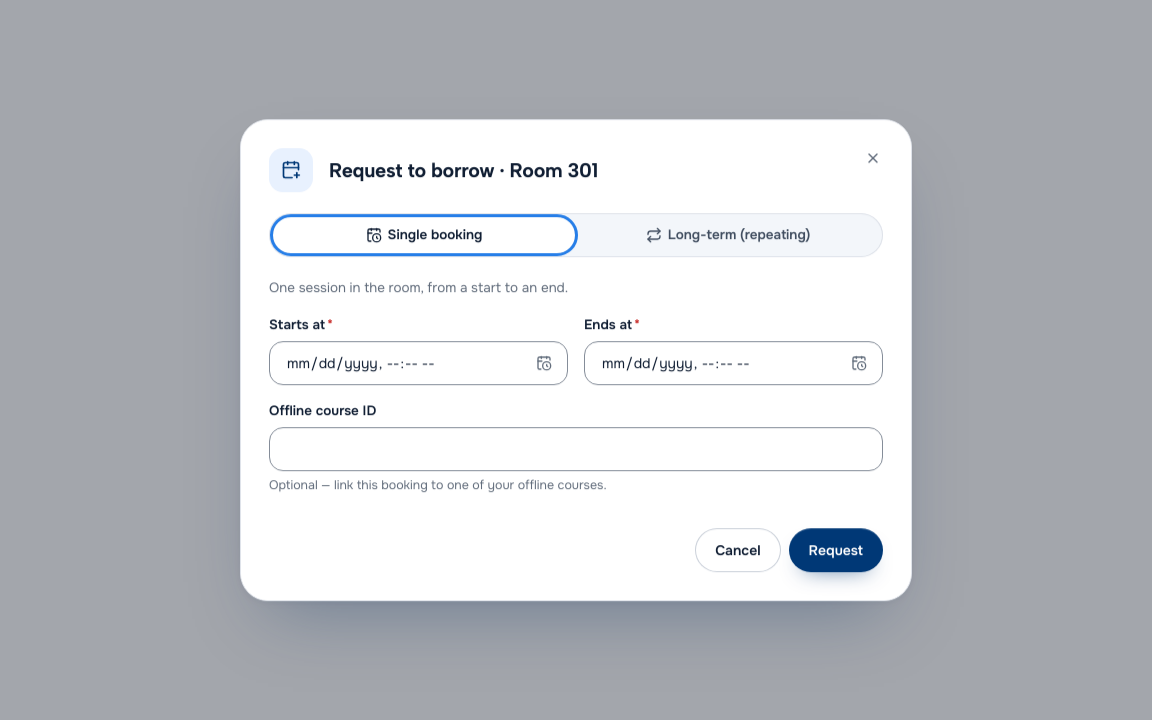
Test case: BookingRequestDialog — long-term booking › keeps a 409 conflict's dates on screen and stays open
Click the tab "Long-term (repeating)": (728, 235) [577,217,879,253]
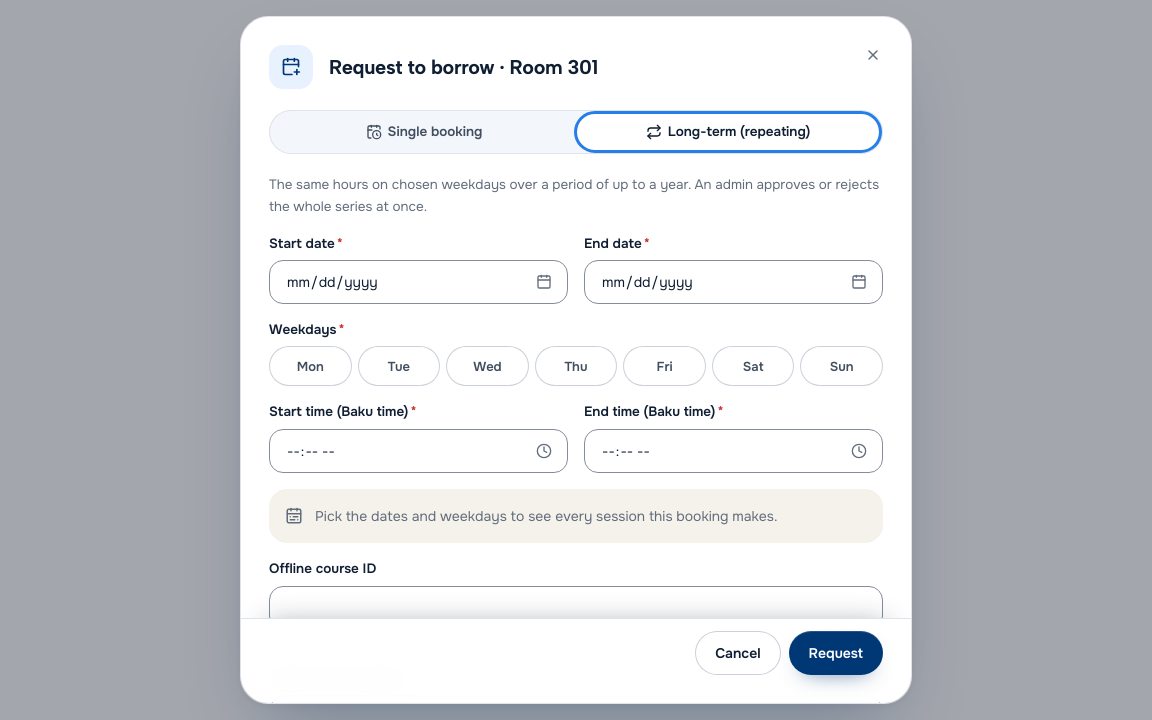
In the date field labelled "Start date*": (418, 282) [269,260,568,304], type "2099-11-02"
In the date field labelled "End date*": (734, 282) [584,260,883,304], type "2099-12-31"
Click the button with aria-label "Monday": (310, 366) [269,346,352,386]
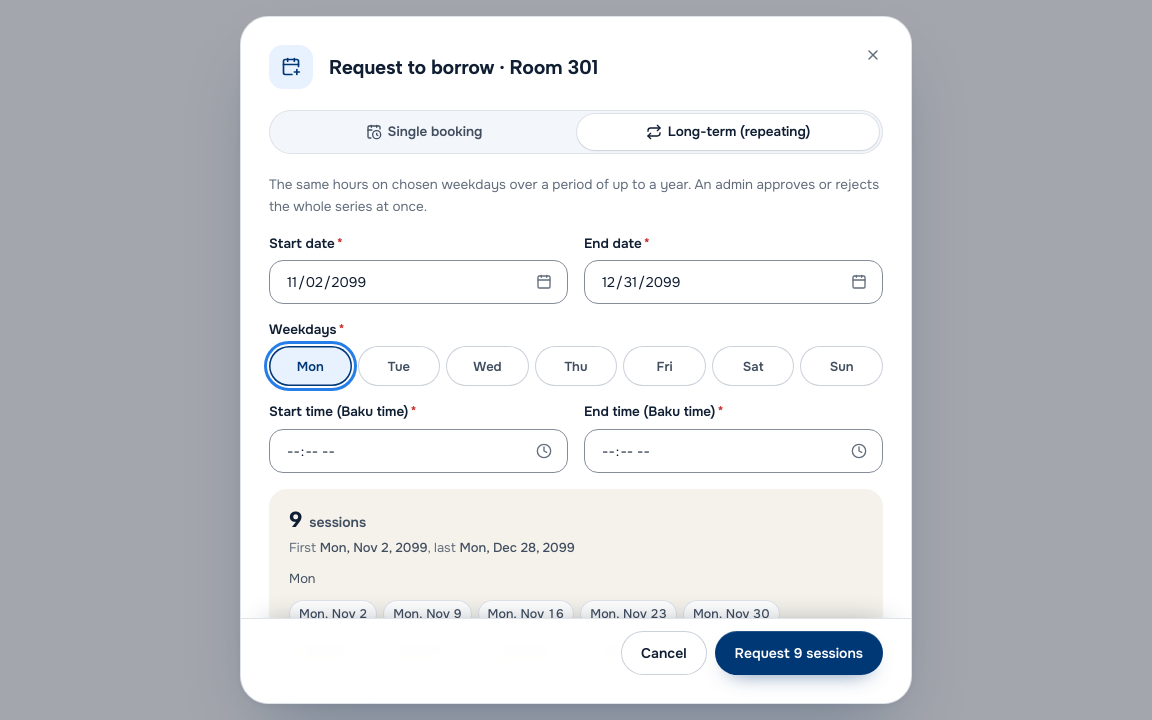
Click the button with aria-label "Wednesday": (487, 366) [446,346,529,386]
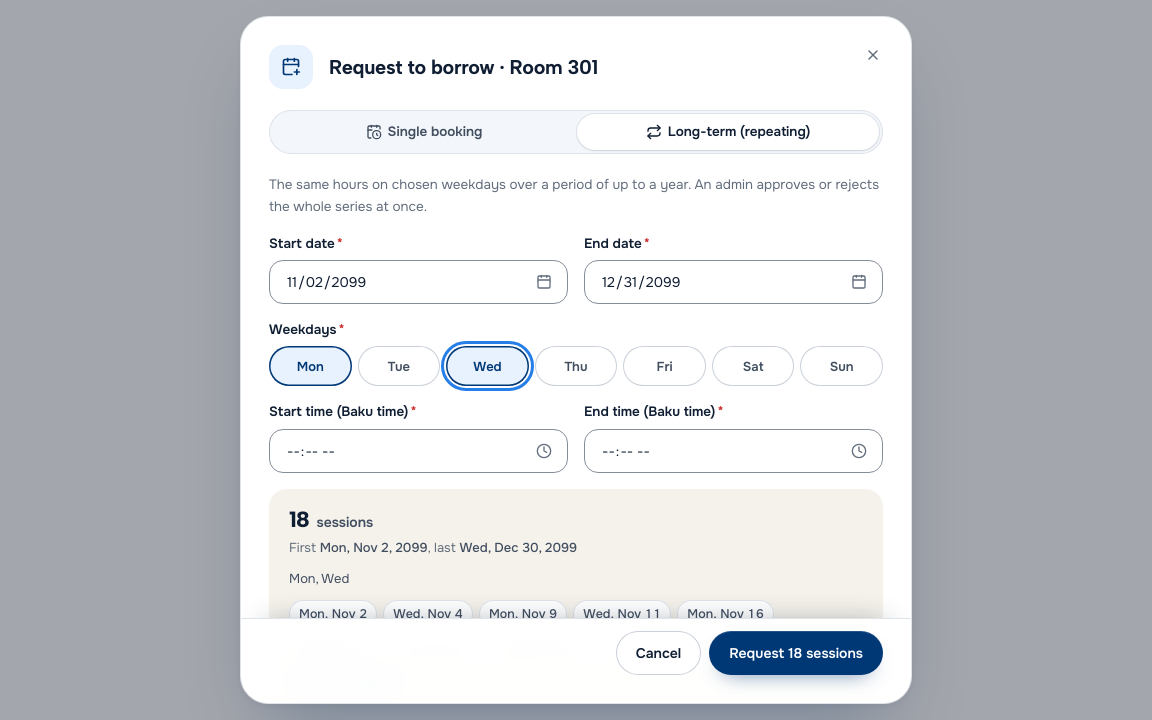
In the time field labelled "Start time (Baku time)*": (418, 451) [269,429,568,473], type "10:00"
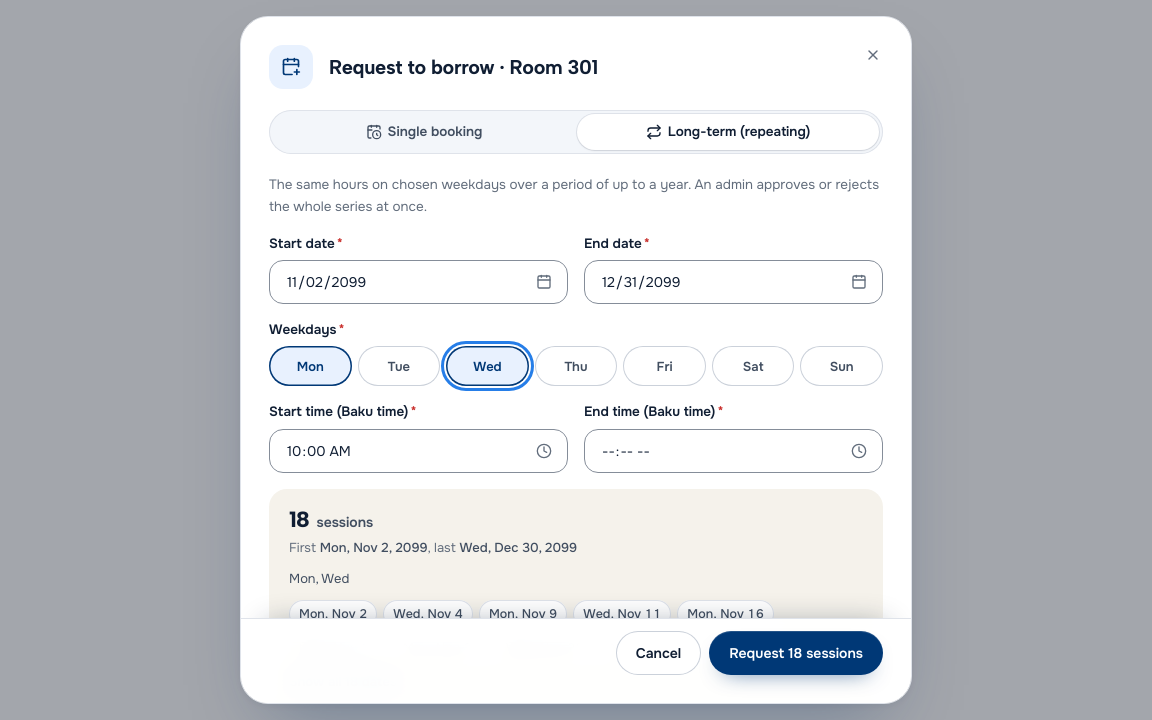
In the time field labelled "End time (Baku time)*": (734, 451) [584,429,883,473], type "12:00"
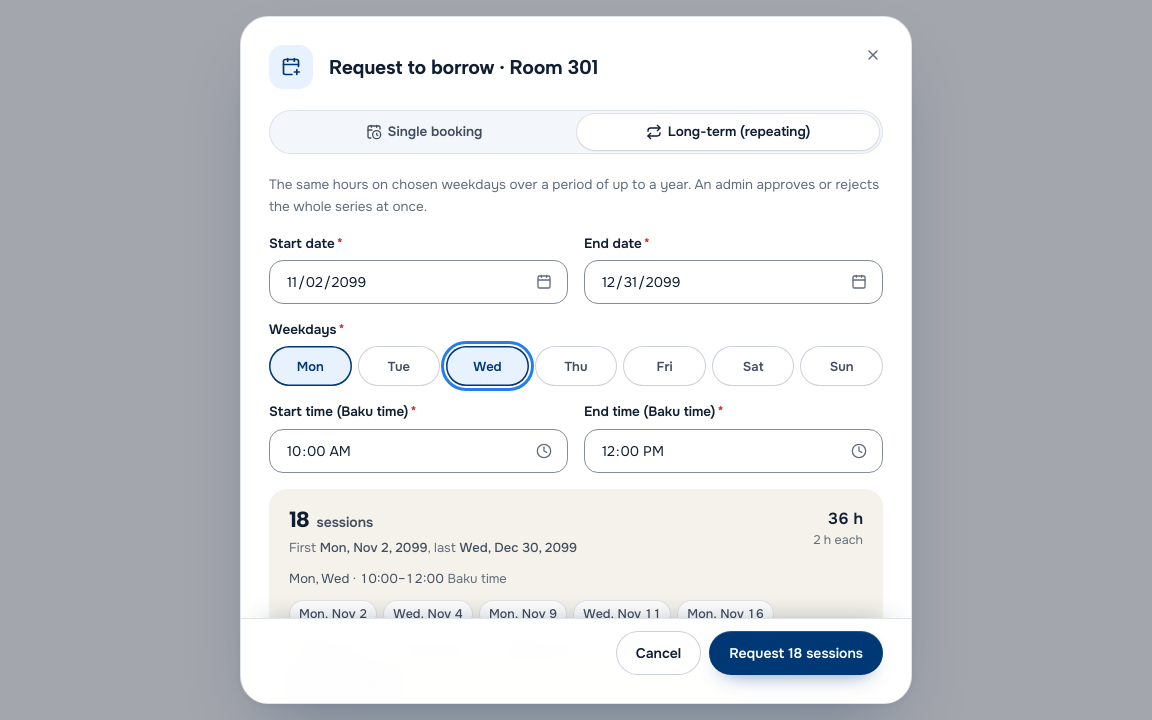
Click the button "Request 18 sessions": (796, 653) [709,631,883,675]
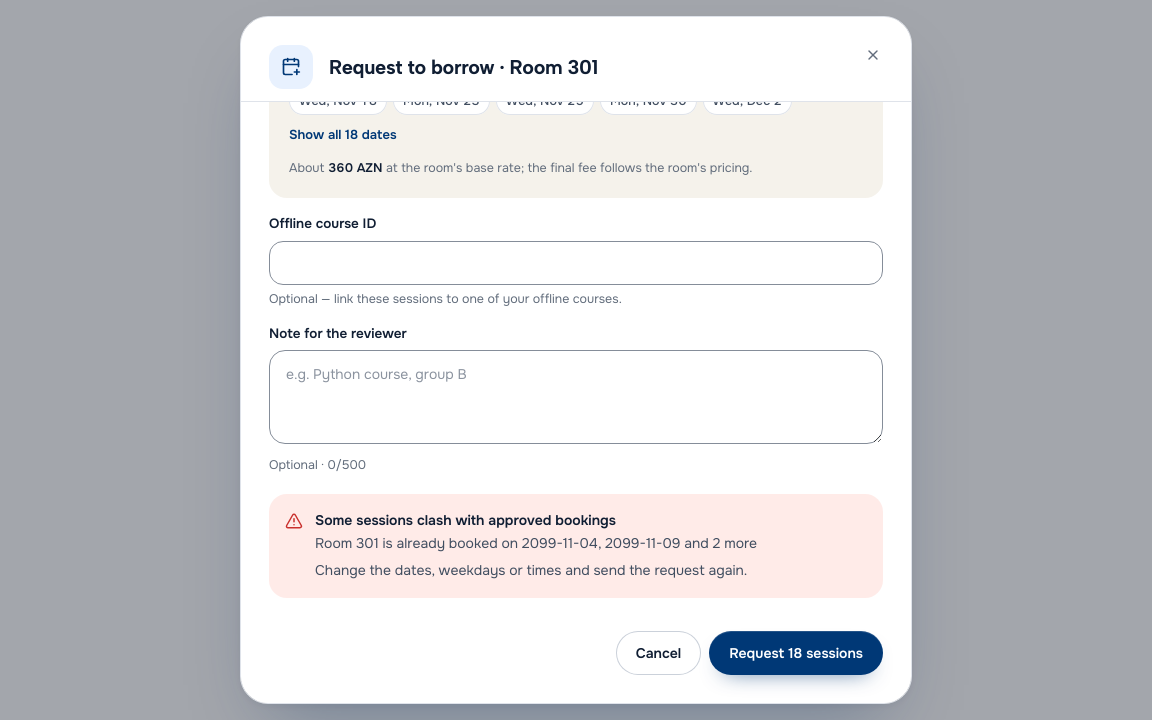
Expected: the text "Room 301 is already booked on 2099-11-04, 2099-11-09 and 2 more" is shown, [315,532,757,555]
Expected: the text "Some sessions clash with approved bookings" is shown, [315,511,616,529]
